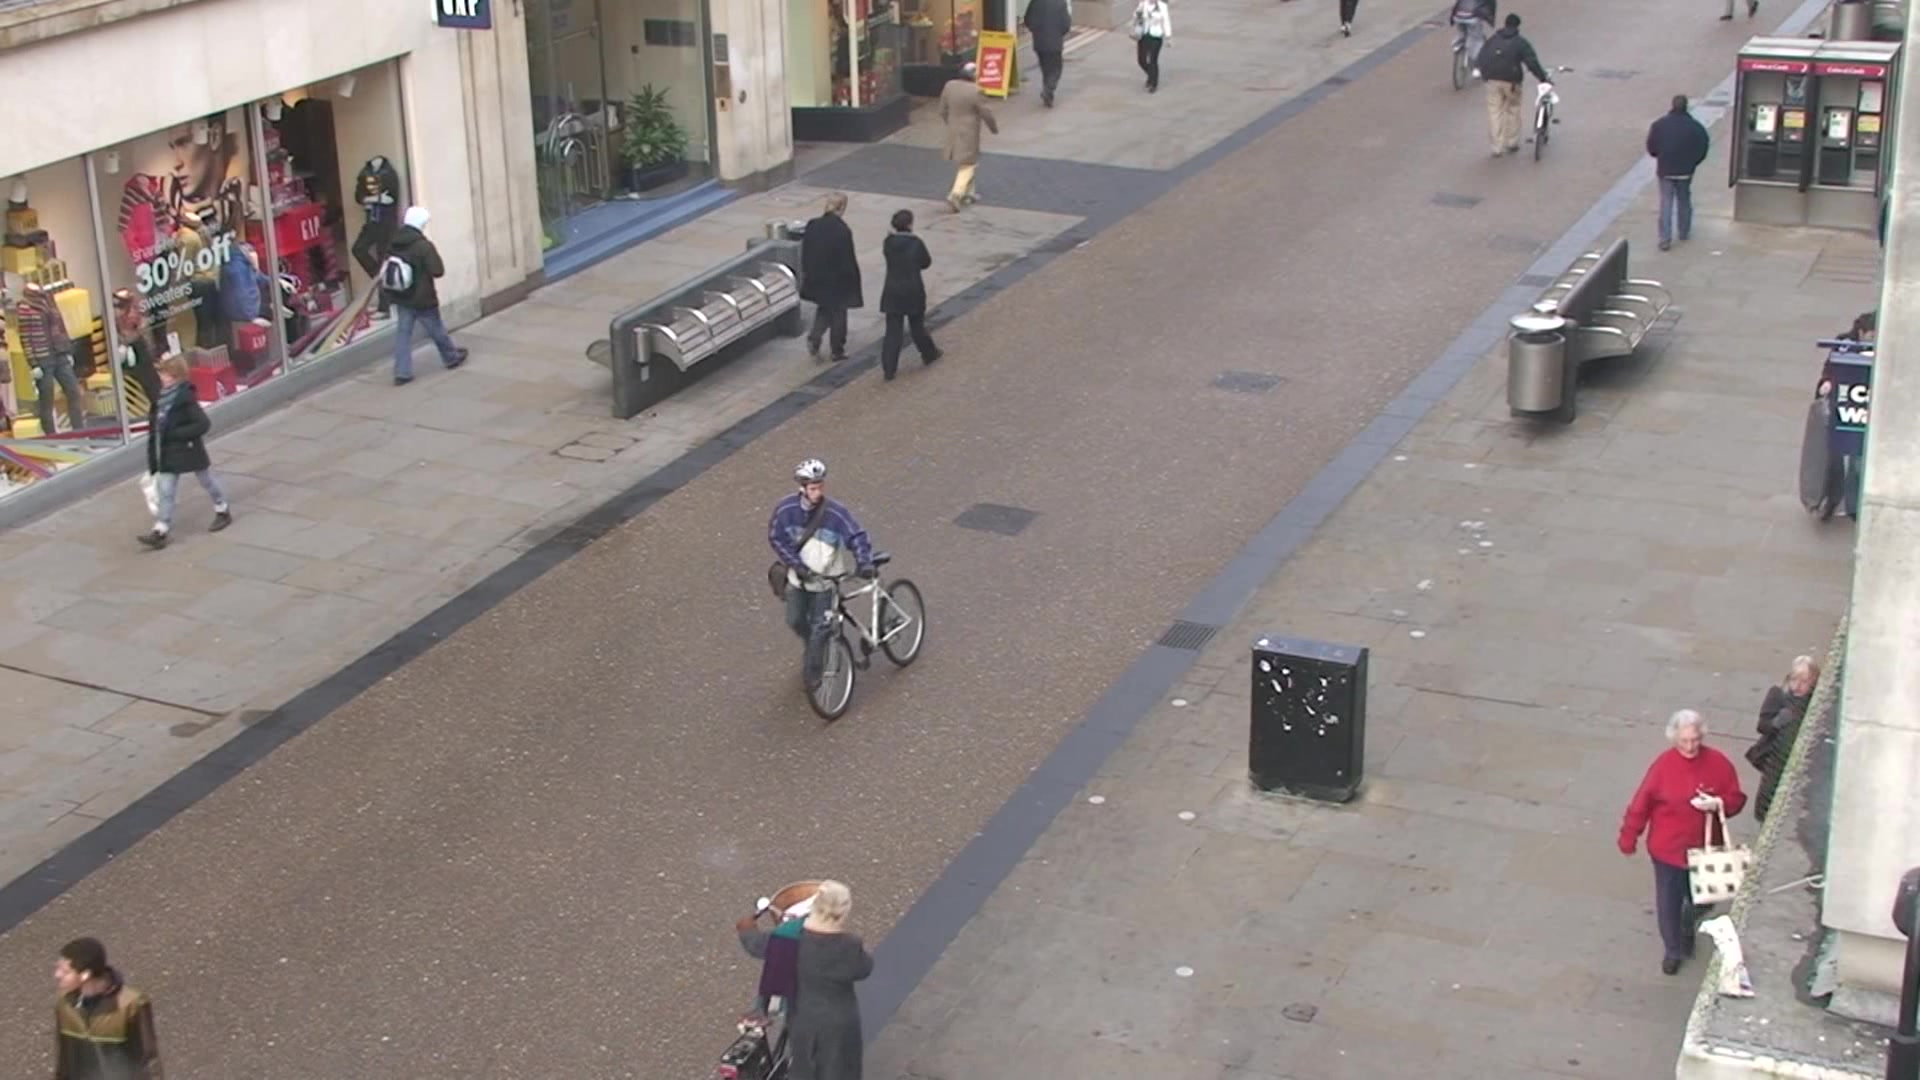person: (1618, 710, 1752, 980), (768, 458, 878, 695), (137, 357, 234, 557), (380, 204, 471, 390), (875, 208, 950, 389), (797, 190, 865, 367), (1478, 13, 1556, 162), (936, 60, 1001, 219), (1648, 95, 1711, 251)
